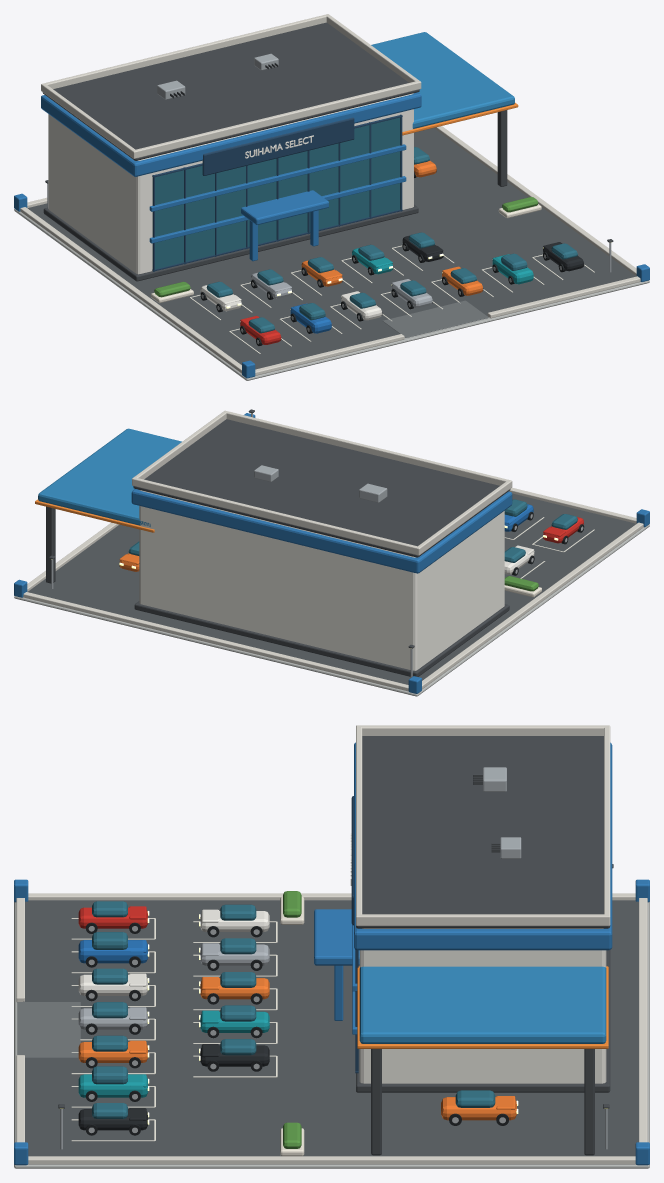
Rendered from dealer_a_modern_flagship_4x4.glb.
3 views of the same model, one above another, from view 1: azimuth 30°, elevation 25°; view 2: azimuth 150°, elevation 25°; view 3: azimuth 270°, elevation 25° (orthographic). The views are drawn at different scales.
Visible parts, largest first — view 1: Lot_Asphalt, A_Roof_Deck, A_Curtain_Wall_Glass, A_Main_Mass, A_Canopy_Roof, A_Top_Fascia, A_Main_Sign_Board, A_Parapet_-9.0_3.4, Footprint_80x80, A_Ground_Reveal, A_Parapet_-9.0_34.6, Curb_West (+11 smaller); view 2: A_Main_Mass, A_Roof_Deck, Lot_Asphalt, A_Canopy_Roof, A_Top_Fascia, A_Ground_Reveal, A_Parapet_-9.0_34.6, Curb_Back, Footprint_80x80, A_Parapet_-9.0_3.4, Curb_West, A_Parapet_-37.1_19.0 (+6 smaller); view 3: Lot_Asphalt, A_Roof_Deck, A_Canopy_Roof, A_Main_Mass, A_Top_Fascia, Curb_East, Footprint_80x80, Entry_Apron, A_Parapet_19.1_19.0, A_Ground_Reveal, A_Parapet_-37.1_19.0, Curb_West (+25 smaller).
Part boxes in pixels (x1,y1,x2,y2): Lot_Asphalt: [27, 128, 636, 369]; A_Roof_Deck: [42, 22, 419, 160]; A_Curtain_Wall_Glass: [155, 117, 400, 269]; A_Main_Mass: [48, 93, 413, 274]; A_Canopy_Roof: [371, 32, 514, 128]; A_Top_Fascia: [41, 92, 421, 176]; A_Main_Sign_Board: [202, 117, 354, 175]; A_Parapet_-9.0_3.4: [132, 80, 419, 158]; Footprint_80x80: [14, 209, 649, 380]; A_Ground_Reveal: [43, 204, 418, 281]; A_Parapet_-9.0_34.6: [41, 14, 328, 91]; Curb_West: [20, 207, 241, 373]; A_Main_Mass: [139, 490, 504, 670]; A_Roof_Deck: [133, 419, 510, 557]; Lot_Asphalt: [28, 493, 636, 684]; A_Canopy_Roof: [38, 428, 181, 526]; A_Top_Fascia: [131, 489, 512, 573]; A_Ground_Reveal: [134, 601, 509, 676]; A_Parapet_-9.0_34.6: [133, 478, 421, 555]; Curb_Back: [23, 592, 408, 691]; Footprint_80x80: [14, 524, 649, 696]; A_Parapet_-9.0_3.4: [224, 410, 512, 488]; Curb_West: [422, 522, 643, 688]; A_Parapet_-37.1_19.0: [416, 480, 511, 555]; Lot_Asphalt: [23, 900, 638, 1156]; A_Roof_Deck: [356, 736, 610, 928]; A_Canopy_Roof: [359, 966, 606, 1043]; A_Main_Mass: [359, 928, 606, 1083]; A_Top_Fascia: [354, 742, 612, 950]; Curb_East: [28, 1156, 635, 1164]; Footprint_80x80: [14, 901, 649, 1168]; Entry_Apron: [17, 1002, 80, 1057]; A_Parapet_19.1_19.0: [356, 914, 610, 925]; A_Ground_Reveal: [356, 950, 610, 1092]; A_Parapet_-37.1_19.0: [356, 725, 609, 735]; Curb_West: [28, 893, 635, 900].
Size of the model in its own units: 80 by 26.95 by 80.
